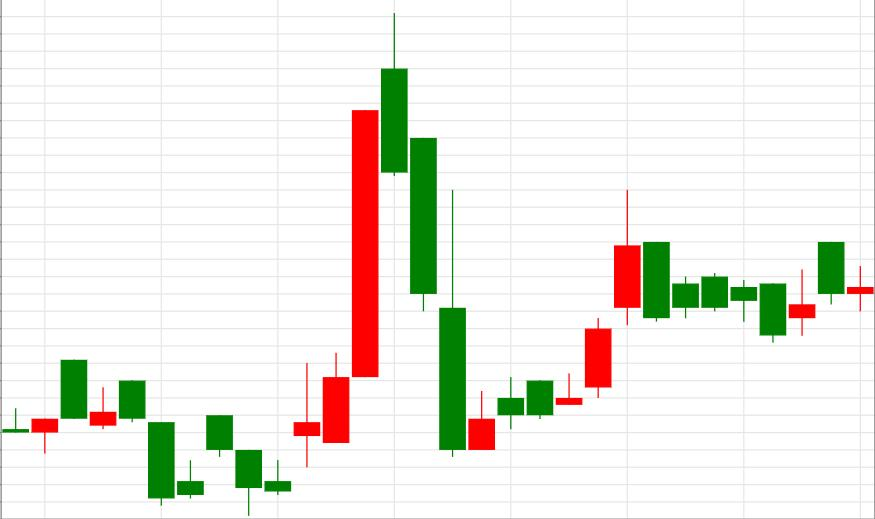three_black_crows_fall: (264, 12, 466, 495)
